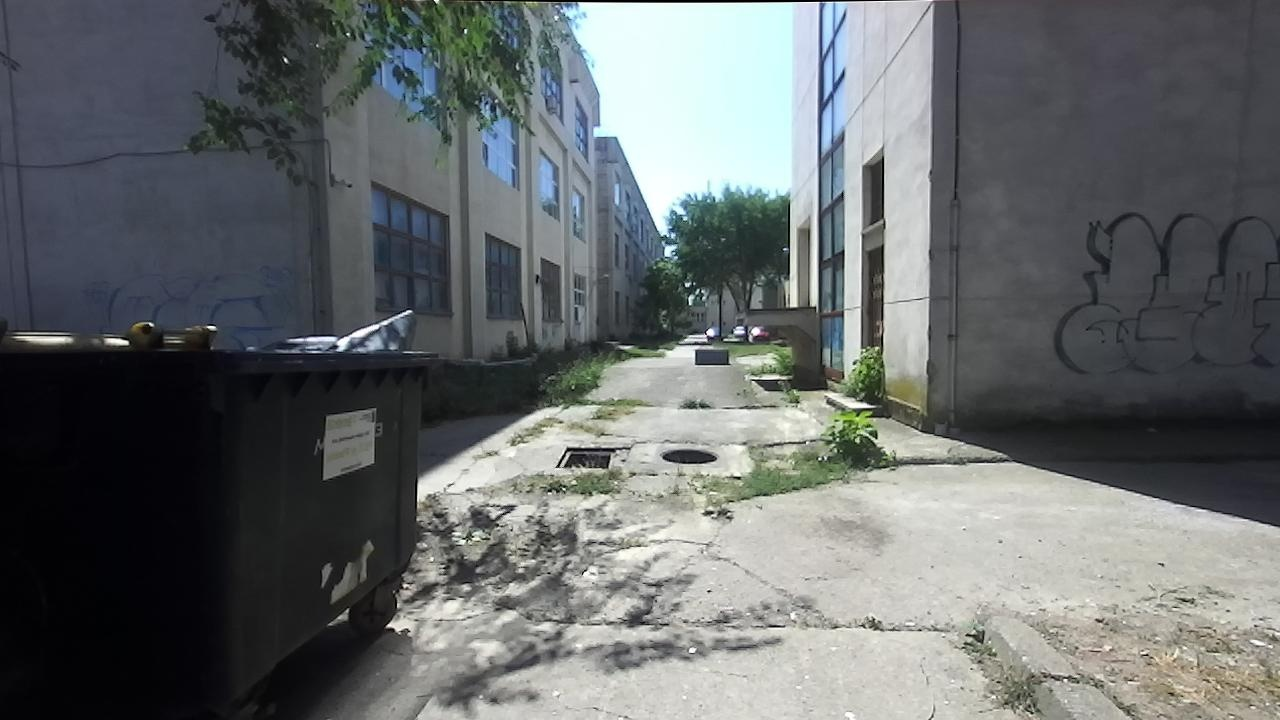drain: (548, 441, 617, 474), (657, 443, 721, 468)
